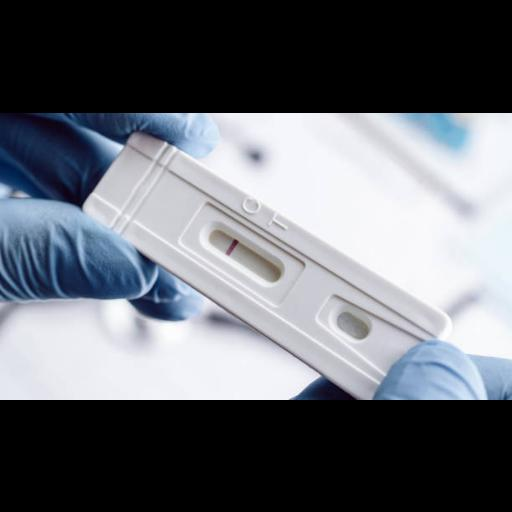Neg: (82, 129, 454, 400)
